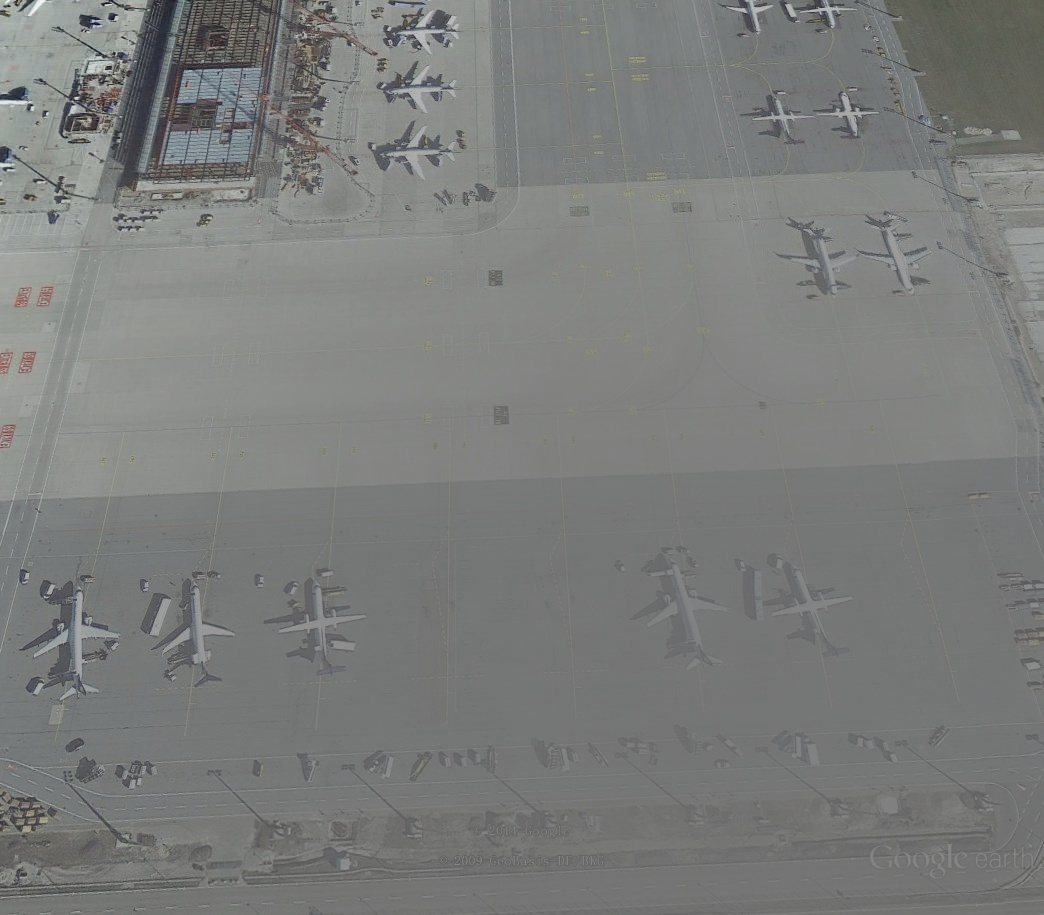aircraft: (27, 583, 124, 709), (642, 550, 738, 676), (279, 571, 373, 675), (769, 561, 858, 663), (150, 579, 240, 676), (856, 217, 939, 301), (777, 226, 864, 301), (376, 120, 460, 184), (379, 64, 465, 118), (387, 6, 463, 54), (748, 93, 817, 145), (817, 91, 885, 142), (793, 1, 864, 33), (721, 1, 775, 42)
